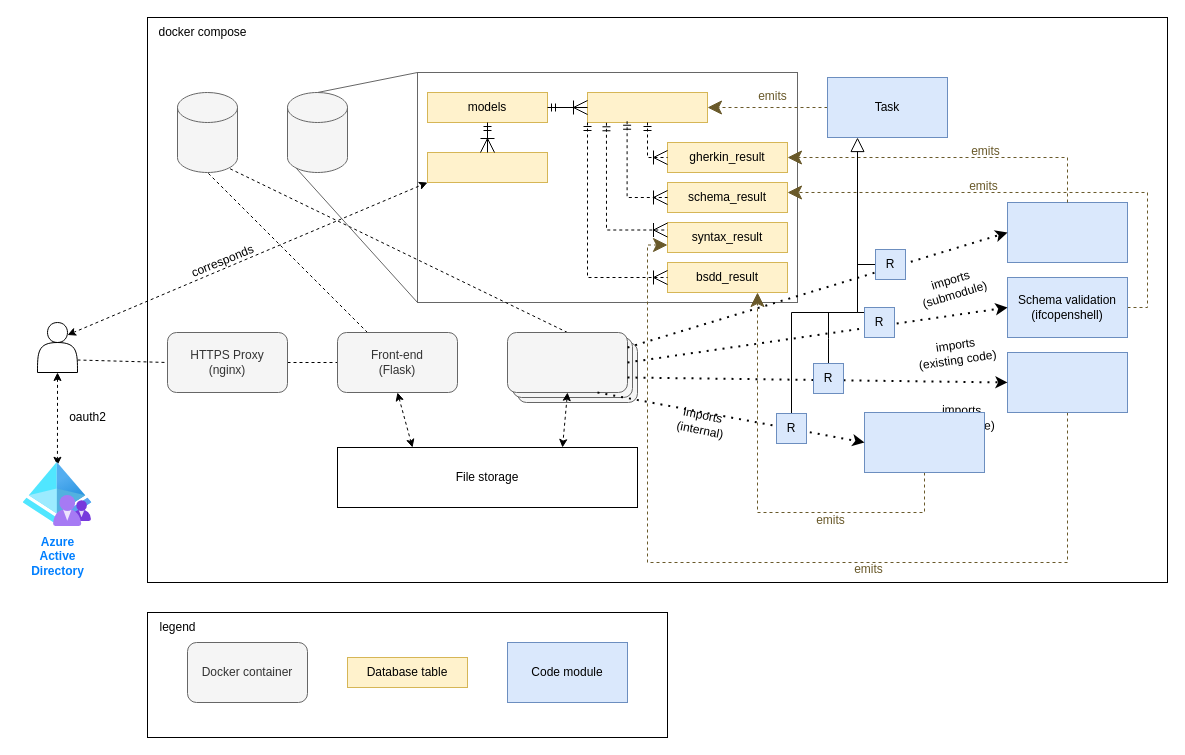
This 1185x755 diagram has some shape labels left out. Here are the shapes that lost their labels. From the top down, the centre of each, then its label:
At (x=647, y=107): "validation_tasks".
At (x=207, y=132): "task queue (Redis)".
At (x=317, y=132): "DB (postgres)".
At (x=487, y=167): "user".
At (x=1067, y=232): "IA/IP (gherkin)".
At (x=567, y=362): "Worker (python rq)".
At (x=1067, y=382): "Syntax validation (python lark)".
At (x=924, y=442): "bSDD validation (python)".
